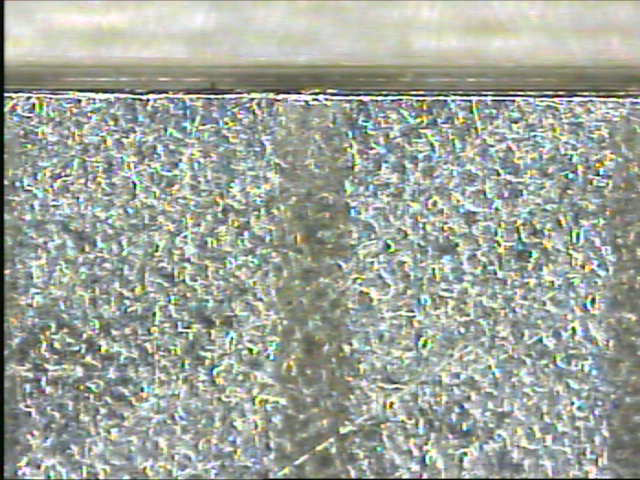line: (259, 98, 358, 476)
